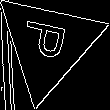P_E: (20, 21, 76, 68)
